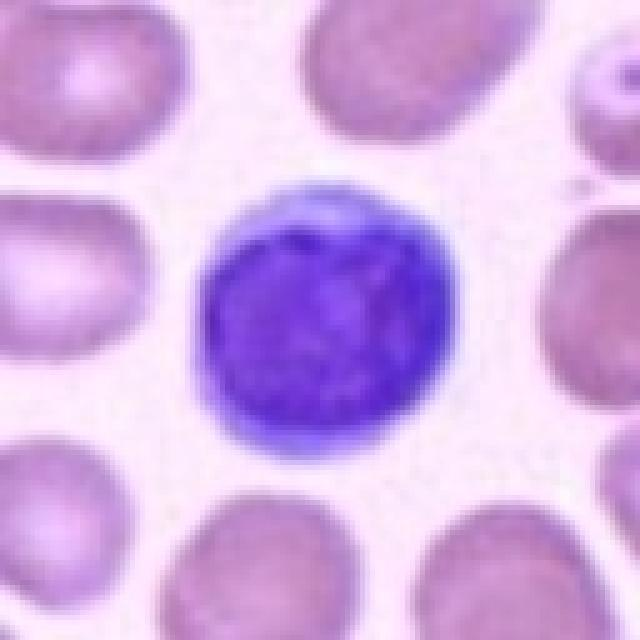lympho: (187, 179, 465, 463)
